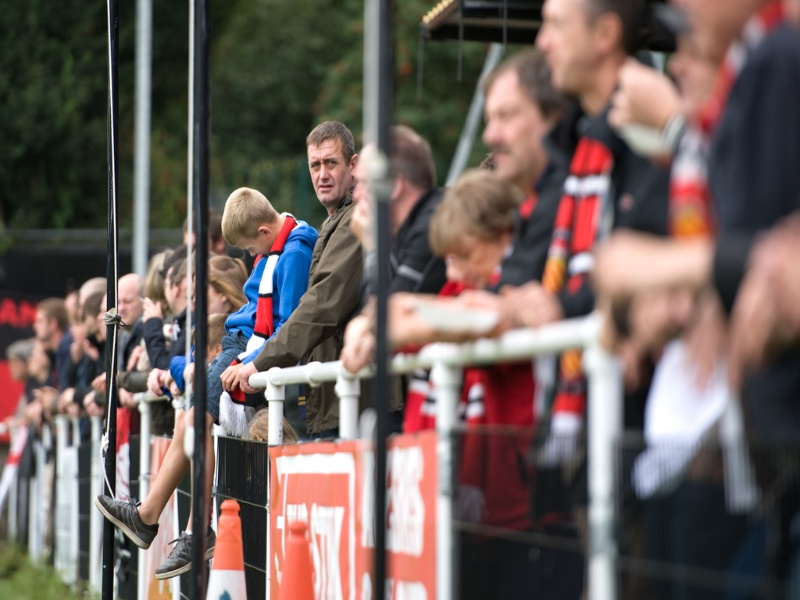person: (543, 2, 689, 310), (474, 35, 599, 314), (692, 2, 800, 324), (434, 166, 554, 338), (220, 182, 318, 372), (357, 128, 438, 351), (296, 115, 355, 365), (32, 286, 102, 414), (153, 245, 195, 392), (208, 254, 248, 399), (110, 270, 147, 398), (11, 329, 55, 417)
